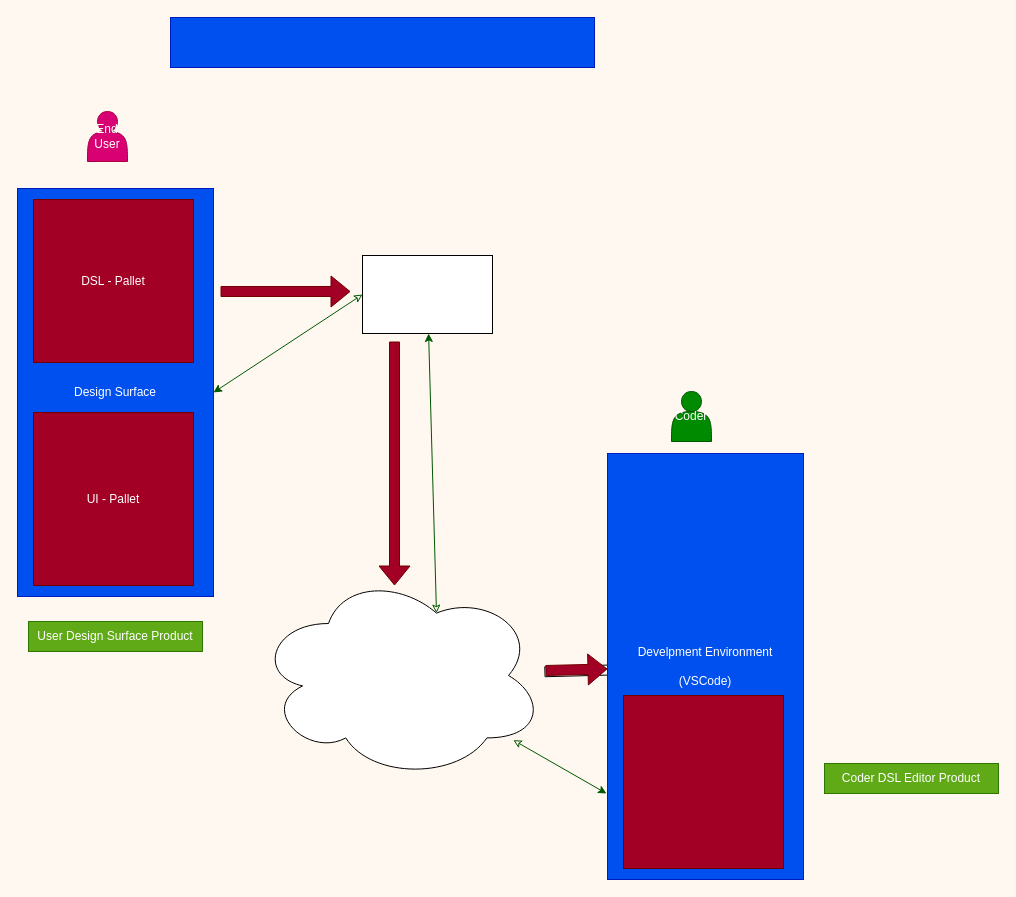
Image size: 1016x897. Some labels were removed from this diagram. Each missing label, with the centre of its shape:
"DSL Code" belongs at (x=427, y=294).
"DSL Editor" belongs at (x=703, y=781).
"GitHub" belongs at (x=400, y=675).
"NoCode as a Service" belongs at (x=382, y=42).
